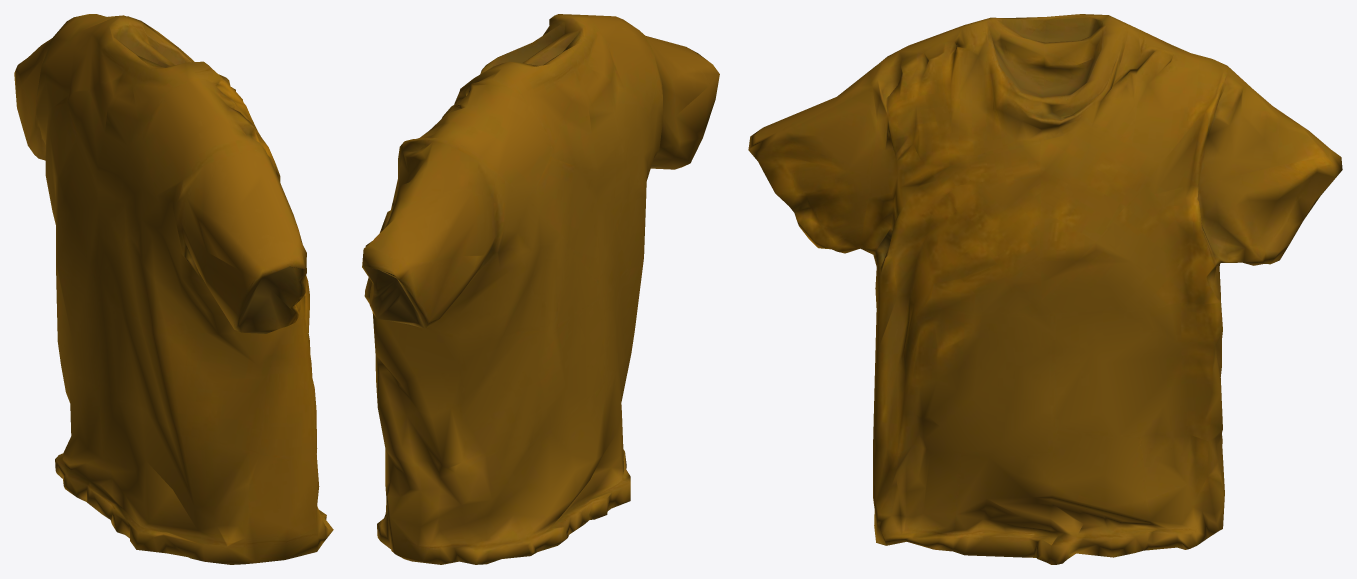
The model's file is marigold.glb.
The picture shows the model from 3 angles, left to right: view 1: azimuth 30°, elevation 25°; view 2: azimuth 150°, elevation 25°; view 3: azimuth 270°, elevation 25°; orthographic projection. The views are drawn at different scales.
Visible parts, largest first — view 1: tripo_node_fb39e8be-3a42-46c7-a2eb-91f853aa0af4; view 2: tripo_node_fb39e8be-3a42-46c7-a2eb-91f853aa0af4; view 3: tripo_node_fb39e8be-3a42-46c7-a2eb-91f853aa0af4.
Part boxes in pixels (x1,y1,x2,y2): tripo_node_fb39e8be-3a42-46c7-a2eb-91f853aa0af4: (14, 14, 333, 564); tripo_node_fb39e8be-3a42-46c7-a2eb-91f853aa0af4: (362, 14, 719, 564); tripo_node_fb39e8be-3a42-46c7-a2eb-91f853aa0af4: (748, 14, 1342, 564).
Bounding box in the file's own units: 0.3695 × 0.8988 × 0.9979.
Materials: 1 (1 with a texture image).
